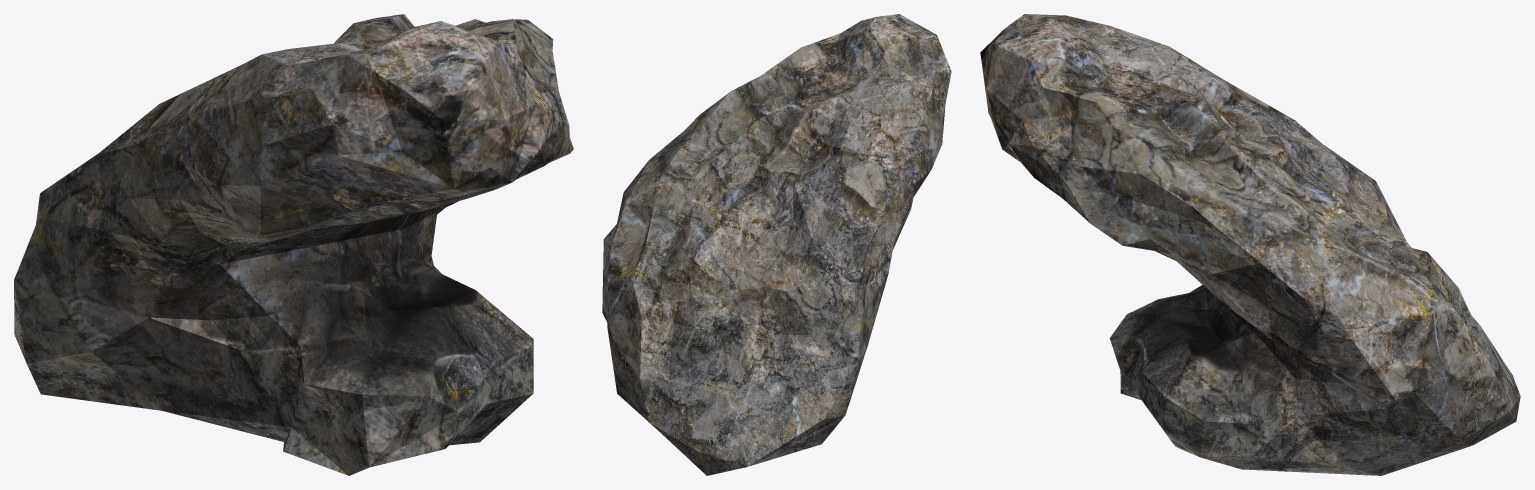
File: Rock_03.obj
3 views of the same model, side by side, from view 1: azimuth 30°, elevation 25°; view 2: azimuth 150°, elevation 25°; view 3: azimuth 270°, elevation 25° (orthographic). The views are drawn at different scales.
Visible parts, largest first — view 1: Rock_03; view 2: Rock_03; view 3: Rock_03.
Part boxes in pixels (<box>): Rock_03: <box>14,14,573,475</box>; Rock_03: <box>602,14,951,475</box>; Rock_03: <box>980,14,1520,475</box>.
Bounding box in the file's own units: 130 × 146 × 181.
